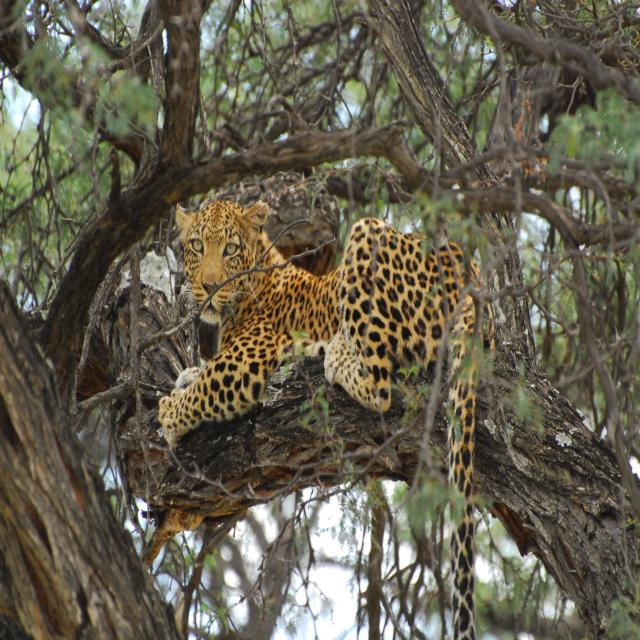Leopard: (160, 206, 464, 640)
